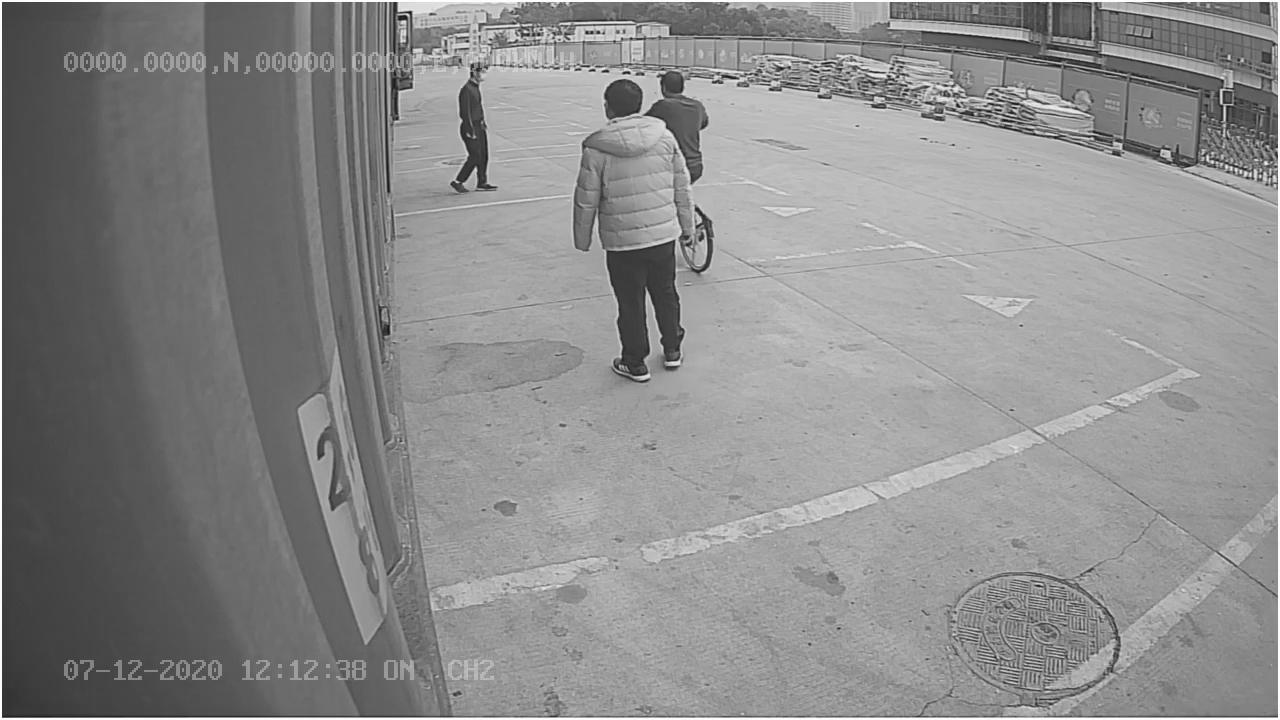person: (561, 73, 697, 385)
